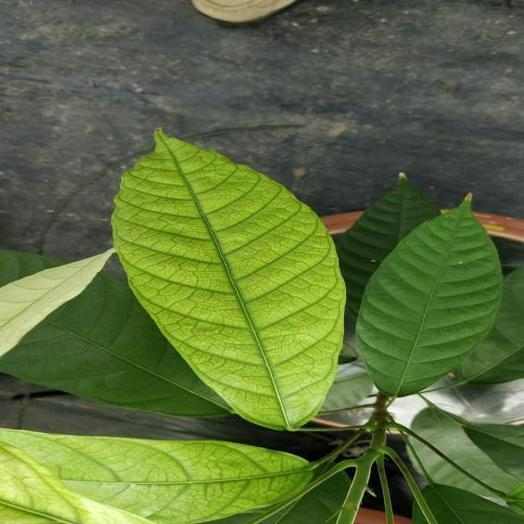Healthy Leaf: (0, 272, 235, 419), (356, 195, 501, 396), (337, 175, 440, 316), (406, 405, 523, 500), (458, 265, 523, 383), (411, 483, 523, 523)
Iron: (113, 130, 345, 429), (0, 429, 312, 523), (0, 248, 114, 356), (0, 445, 149, 523)
